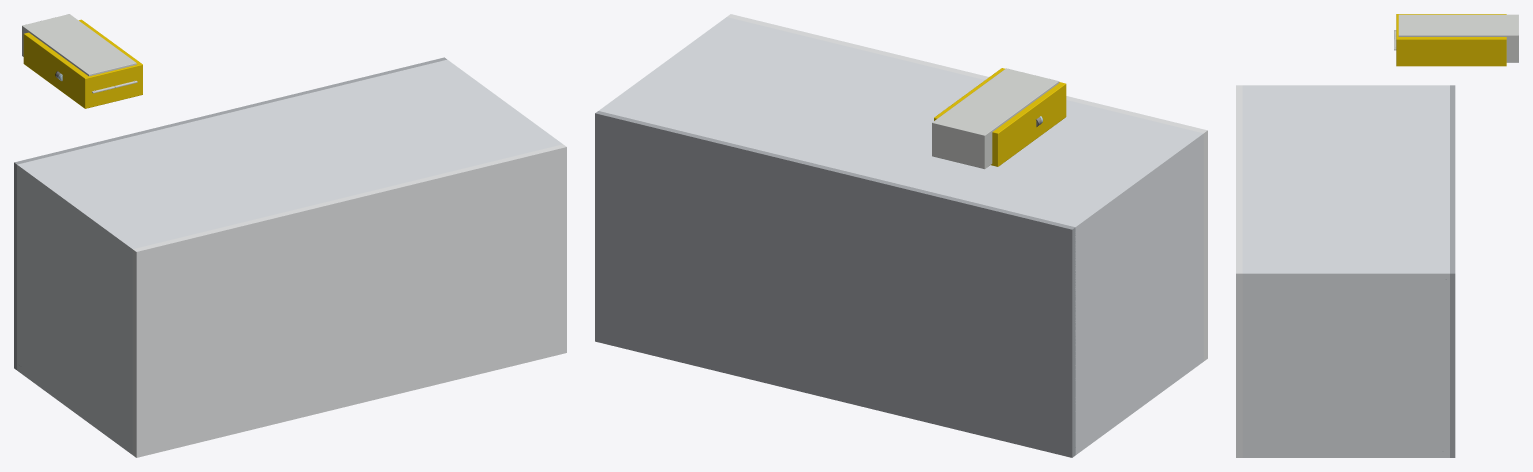
Rendered from wf05_scene_color.glb.
The picture shows the model from 3 angles, left to right: view 1: azimuth 30°, elevation 25°; view 2: azimuth 150°, elevation 25°; view 3: azimuth 270°, elevation 25°; orthographic projection. The views are drawn at different scales.
Parts seen in each view (by area): view 1: static_world, /World/Stations/cabinet_1/Asset/Source/ReagentCabinet001_002, /World/Stations/cabinet_1/Asset/Source/ReagentCabinet001_001; view 2: static_world, /World/Stations/cabinet_1/Asset/Source/ReagentCabinet001_001, /World/Stations/cabinet_1/Asset/Source/ReagentCabinet001_002; view 3: static_world, /World/Stations/cabinet_1/Asset/Source/ReagentCabinet001_002, /World/Stations/cabinet_1/Asset/Source/ReagentCabinet001_001.
Part boxes in pixels (x1=…): static_world: x1=14, y1=57, x2=566, y2=457; /World/Stations/cabinet_1/Asset/Source/ReagentCabinet001_002: x1=23, y1=19, x2=142, y2=108; /World/Stations/cabinet_1/Asset/Source/ReagentCabinet001_001: x1=22, y1=14, x2=136, y2=76; static_world: x1=595, y1=14, x2=1207, y2=457; /World/Stations/cabinet_1/Asset/Source/ReagentCabinet001_001: x1=932, y1=68, x2=1059, y2=169; /World/Stations/cabinet_1/Asset/Source/ReagentCabinet001_002: x1=934, y1=68, x2=1066, y2=166; static_world: x1=1236, y1=85, x2=1455, y2=457; /World/Stations/cabinet_1/Asset/Source/ReagentCabinet001_002: x1=1396, y1=14, x2=1506, y2=66; /World/Stations/cabinet_1/Asset/Source/ReagentCabinet001_001: x1=1398, y1=14, x2=1518, y2=62.
Bounding box in the file's own units: 6.66 × 4.53 × 4.23.
Materials: 56 (11 with a texture image).
